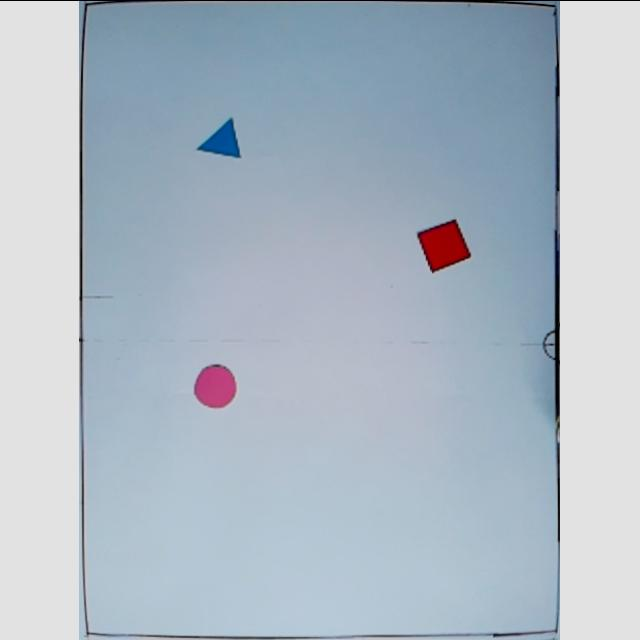blueTriangle: (197, 116, 245, 158)
pinkCircle: (194, 361, 240, 409)
redSquare: (416, 217, 474, 273)
